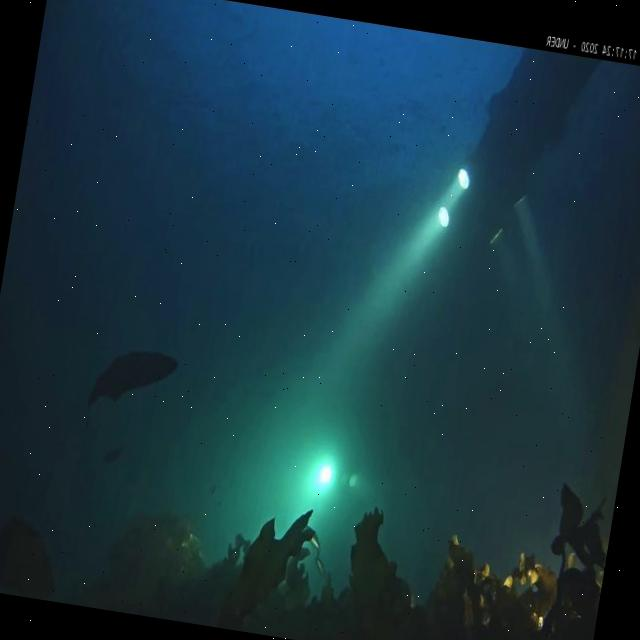fish: (81, 348, 178, 438), (292, 526, 322, 558), (101, 440, 123, 470), (310, 554, 328, 580)
